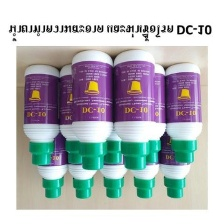cleaning_solution: (68, 46, 117, 171), (111, 46, 158, 171), (91, 63, 137, 165), (126, 61, 169, 165), (162, 60, 204, 165), (20, 62, 60, 167), (57, 60, 93, 165), (155, 110, 193, 201), (127, 109, 163, 201), (64, 115, 98, 201), (33, 114, 65, 201), (96, 114, 127, 201)
